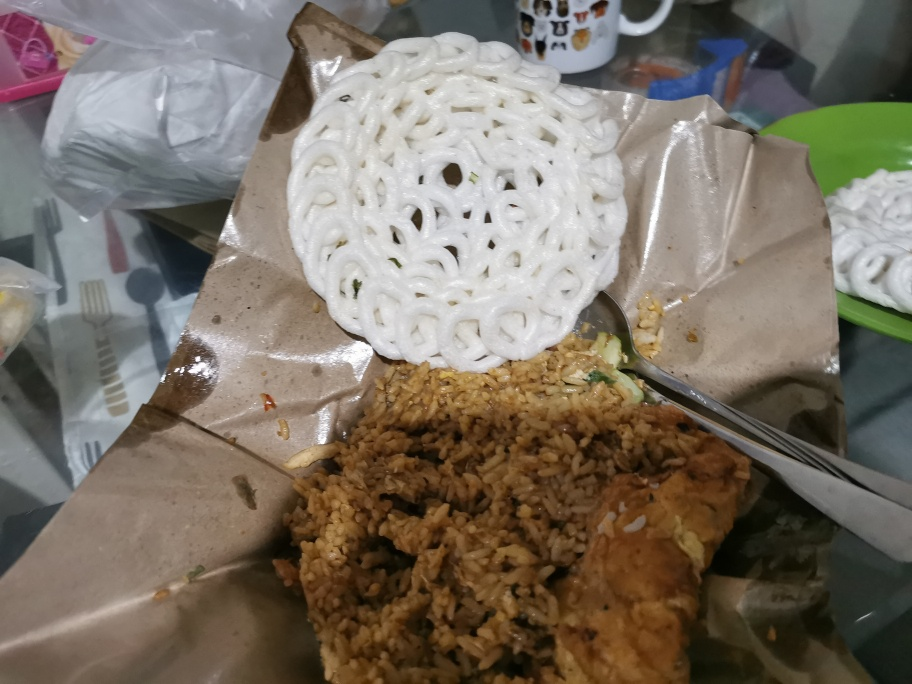kerupuk: (283, 33, 629, 356)
nasi goreng: (302, 364, 743, 684)
